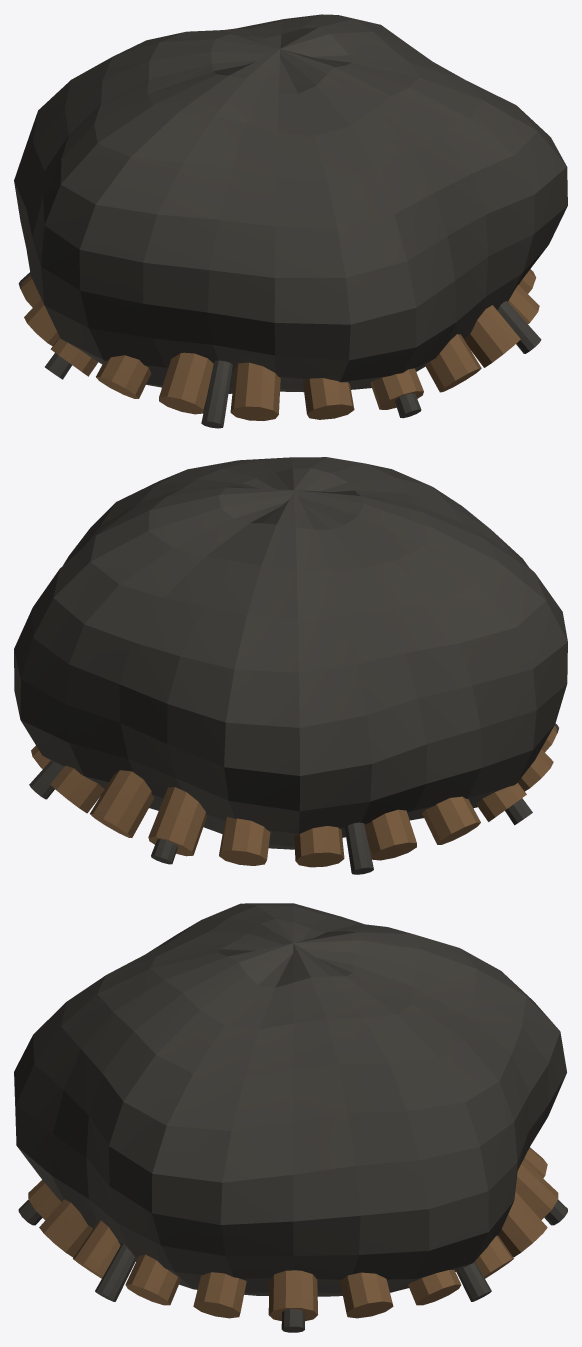
Rendered from covered_charcoal_kiln.glb.
The picture shows the model from 3 angles, top to bottom: view 1: azimuth 30°, elevation 25°; view 2: azimuth 150°, elevation 25°; view 3: azimuth 270°, elevation 25°; orthographic projection.
Visible parts, largest first — view 1: covered_charcoal_kiln_painted_export; view 2: covered_charcoal_kiln_painted_export; view 3: covered_charcoal_kiln_painted_export.
Boxes of the visible parts, x1=… form: covered_charcoal_kiln_painted_export: x1=14, y1=14, x2=567, y2=428; covered_charcoal_kiln_painted_export: x1=14, y1=457, x2=567, y2=874; covered_charcoal_kiln_painted_export: x1=14, y1=903, x2=567, y2=1332.
Size of the model in its own units: 4.57 by 2.88 by 4.47.
